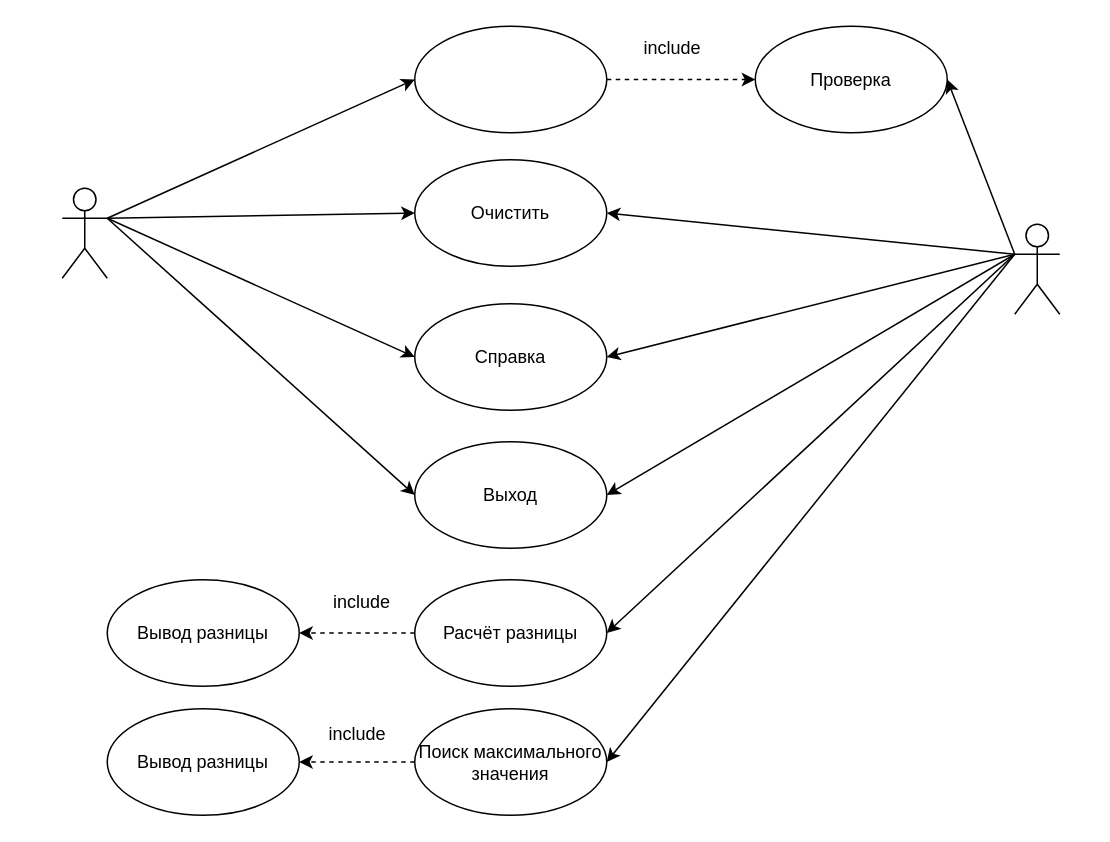
Some shapes in this 1110 by 842 pixel diagram are drawn without their labels. The shapes that lost their labels are listed below. From the top down, each one's centre as x and y in pixels, then its label:
At [510,79]: "Ввод значений".
At [84,232]: "Пользователь".
At [1036,268]: "Программа".
